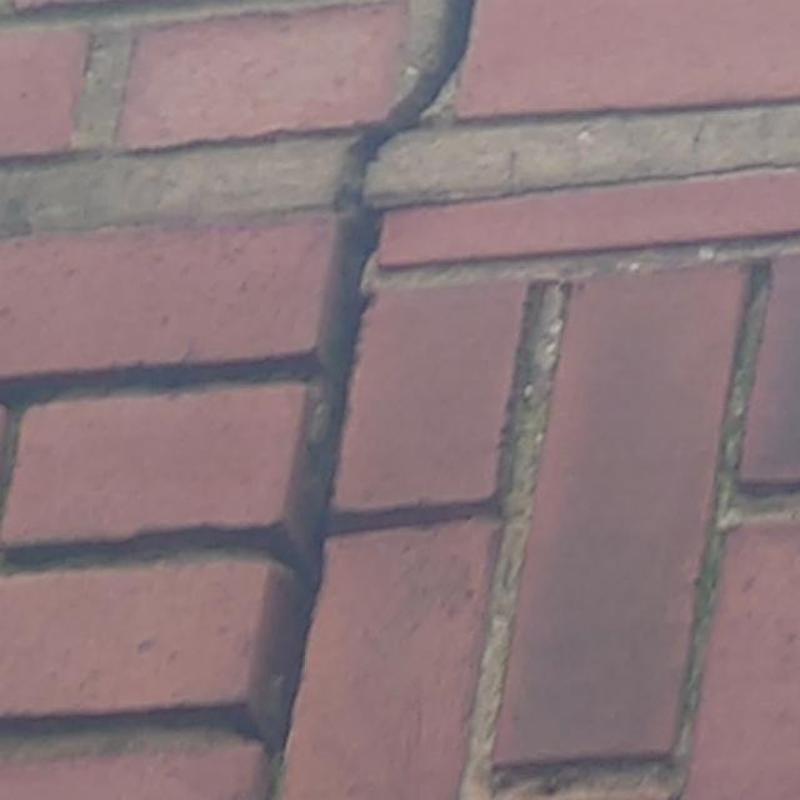crack: (258, 0, 471, 799)
